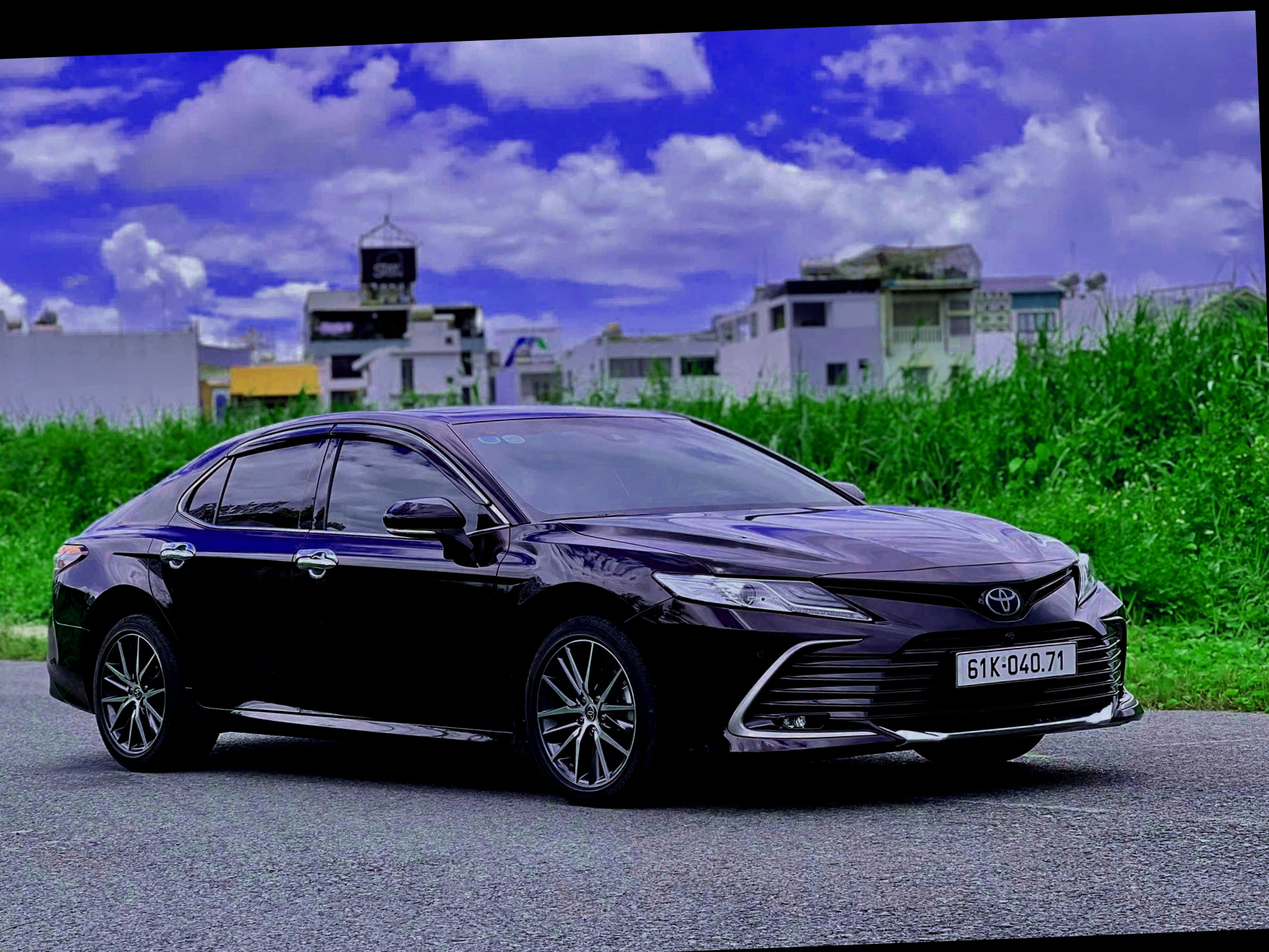Bien-so: (939, 657, 1060, 713)
